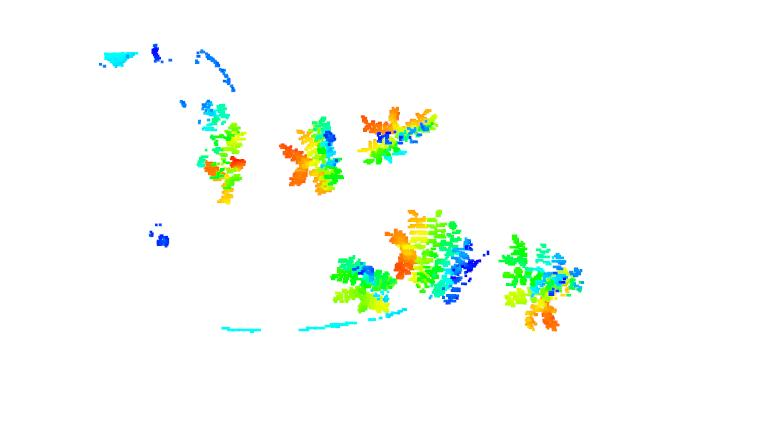chickpea: (382, 208, 485, 306), (497, 232, 585, 333), (278, 116, 348, 197), (195, 97, 247, 206), (354, 104, 438, 165), (329, 254, 393, 315)
